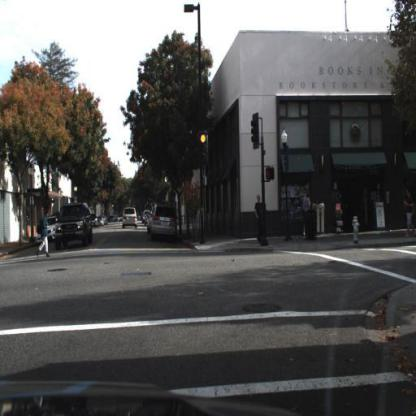car: (55, 204, 94, 250), (152, 207, 178, 242), (121, 205, 140, 231), (122, 206, 139, 231)
pedestrian: (37, 210, 53, 259), (254, 194, 265, 240), (302, 190, 314, 217)
trafficLight-Red: (198, 131, 210, 167)
